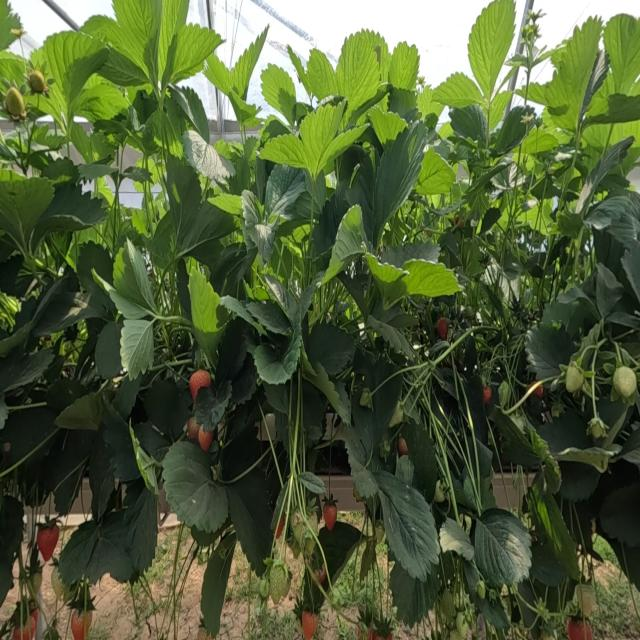Flowers: (522, 106, 541, 127)
Leaves: (347, 123, 427, 249), (464, 434, 530, 586), (113, 0, 189, 91), (376, 470, 438, 581), (374, 123, 430, 242), (32, 31, 107, 115), (546, 16, 601, 128), (163, 441, 227, 531), (0, 50, 67, 130), (352, 355, 402, 454), (226, 470, 273, 575), (468, 0, 515, 103), (33, 182, 106, 248), (80, 16, 148, 84), (475, 508, 531, 587), (538, 475, 579, 579), (336, 30, 383, 119), (45, 431, 95, 514), (188, 260, 225, 370), (0, 177, 54, 249), (579, 138, 631, 212), (30, 271, 87, 337), (77, 241, 117, 331), (0, 405, 58, 465), (165, 25, 221, 86), (201, 535, 235, 635), (299, 103, 344, 176), (86, 510, 131, 583), (389, 562, 438, 628), (114, 239, 155, 317), (254, 320, 304, 383), (324, 205, 364, 283), (166, 158, 202, 243), (584, 189, 639, 242), (144, 378, 191, 440), (402, 416, 436, 500), (603, 14, 639, 93), (493, 409, 540, 469), (339, 424, 377, 498), (103, 405, 139, 482), (526, 323, 575, 379), (242, 190, 279, 262), (305, 322, 355, 375), (222, 297, 291, 335), (232, 26, 268, 98), (58, 520, 98, 584), (131, 488, 159, 579), (310, 363, 351, 425), (542, 287, 596, 334), (538, 409, 593, 455), (319, 521, 360, 582), (0, 347, 53, 394), (313, 187, 349, 256), (599, 485, 639, 546), (76, 75, 129, 121), (1, 495, 23, 603), (365, 255, 409, 309), (215, 318, 249, 386), (221, 424, 261, 481), (184, 135, 232, 182), (188, 200, 235, 247), (89, 430, 114, 518), (125, 240, 155, 312), (403, 261, 459, 299), (433, 72, 487, 111), (493, 106, 535, 156), (120, 318, 154, 379), (264, 165, 305, 215), (261, 64, 295, 124), (193, 380, 232, 431), (369, 315, 413, 359), (414, 149, 455, 196), (210, 243, 248, 293), (290, 171, 327, 220), (56, 392, 103, 430), (146, 210, 176, 269), (481, 259, 523, 301), (449, 105, 489, 148), (583, 123, 640, 153), (530, 540, 566, 586), (260, 135, 307, 170), (558, 461, 599, 501), (293, 271, 324, 322), (383, 240, 439, 268), (95, 321, 122, 379), (307, 49, 338, 99), (223, 88, 260, 129), (596, 263, 623, 319), (103, 200, 130, 254), (516, 581, 547, 628), (287, 44, 313, 100), (369, 106, 406, 145), (389, 42, 419, 90), (135, 421, 170, 461), (303, 382, 324, 447), (440, 518, 473, 559), (265, 274, 296, 317), (519, 200, 556, 235), (231, 354, 256, 404), (204, 55, 233, 96), (600, 93, 639, 123), (476, 594, 509, 629), (115, 376, 141, 420), (388, 88, 419, 124), (96, 108, 136, 135), (622, 238, 639, 301), (521, 128, 559, 155), (70, 122, 93, 164), (41, 158, 79, 183), (464, 240, 488, 277), (229, 155, 251, 194), (207, 194, 241, 219), (417, 86, 444, 117), (88, 133, 117, 160), (264, 385, 289, 415), (33, 125, 64, 149), (78, 162, 113, 180), (299, 472, 325, 495), (140, 124, 157, 156), (123, 167, 151, 183), (445, 231, 459, 259), (243, 138, 258, 162), (280, 418, 287, 439), (248, 140, 256, 149)
Strawberries: (357, 599, 394, 639), (291, 508, 318, 557), (268, 561, 291, 603), (37, 524, 59, 562), (612, 367, 635, 401), (575, 583, 595, 615), (189, 370, 210, 398), (5, 88, 25, 117), (566, 618, 592, 639), (520, 22, 539, 49), (51, 565, 65, 599), (301, 612, 318, 639), (70, 611, 86, 639), (566, 365, 583, 391), (27, 71, 47, 93), (323, 505, 336, 530), (26, 611, 37, 639), (313, 565, 327, 587), (187, 417, 199, 442), (589, 419, 605, 437), (456, 613, 467, 638), (198, 430, 211, 451), (29, 573, 42, 594), (437, 319, 447, 339), (361, 388, 371, 407), (477, 580, 486, 599), (13, 627, 27, 639), (398, 437, 407, 455), (484, 386, 491, 403)
